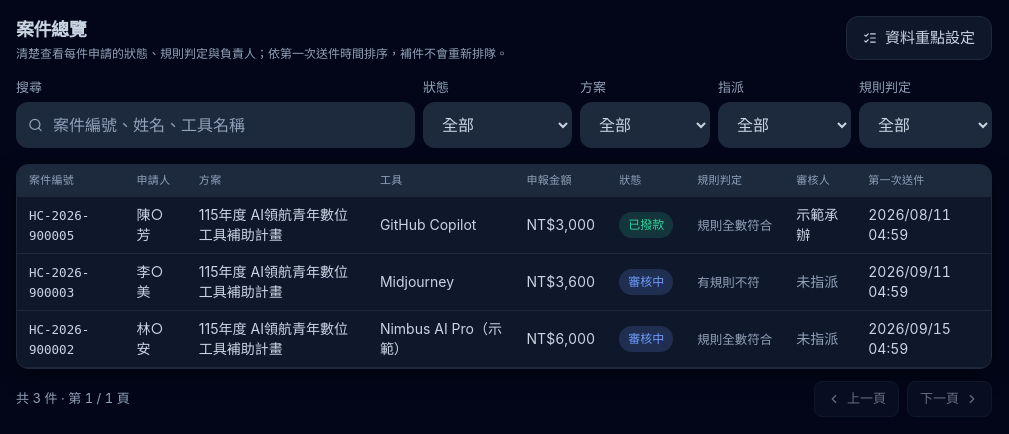
Test case: CasesQueuePage › 搜尋可以用工具名稱找到案件
Expected: the text "HC-2026-900002" is shown, [29, 322, 89, 357]
Type "midjourney" into the field labelled "搜尋" at (216, 124), box [16, 102, 415, 148]
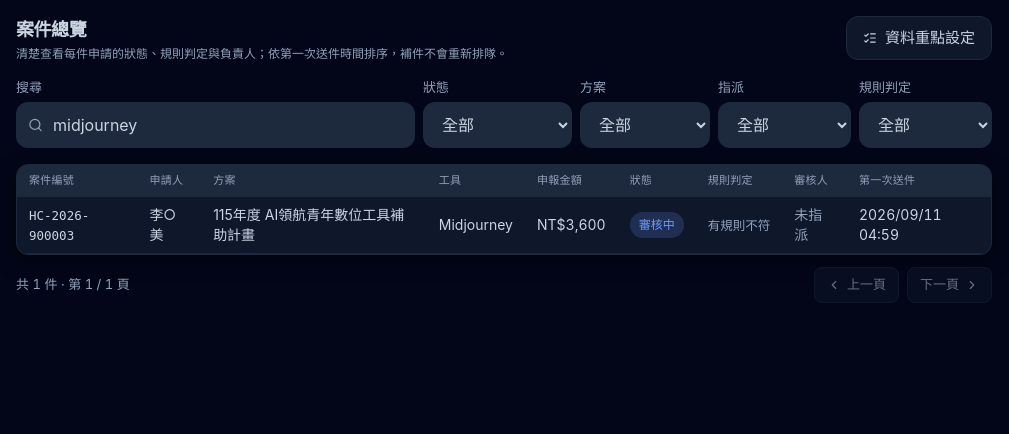
Expected: the text "HC-2026-900003" is shown, [29, 208, 89, 243]
Now the text "HC-2026-900002" is gone
